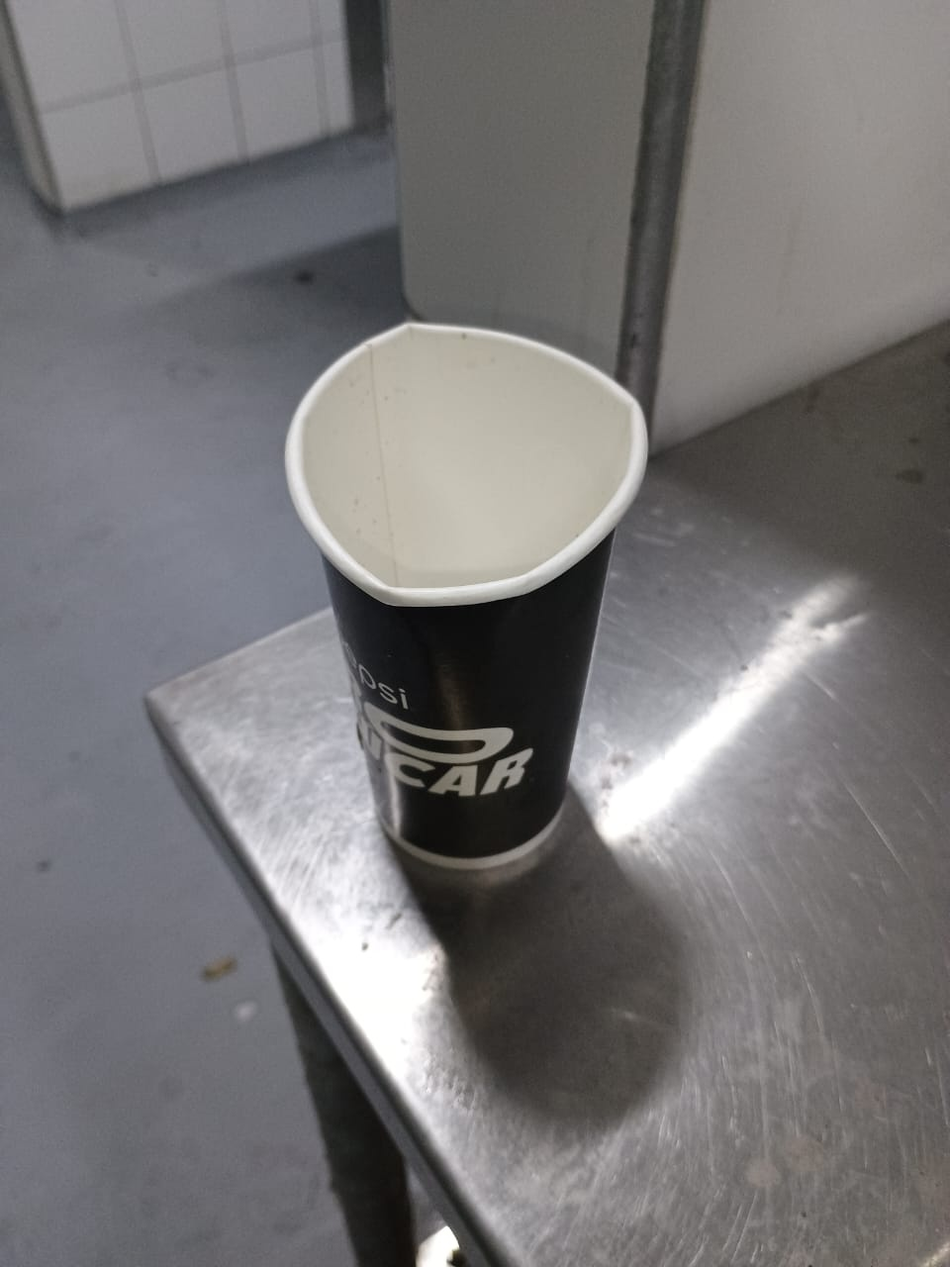Carton: (286, 323, 650, 873)
